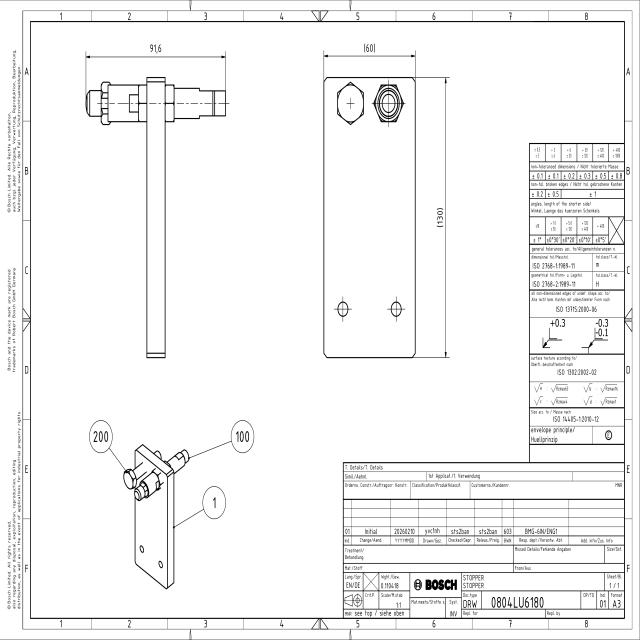dimension: (435, 206, 445, 229), (149, 41, 163, 56), (363, 41, 376, 54)
